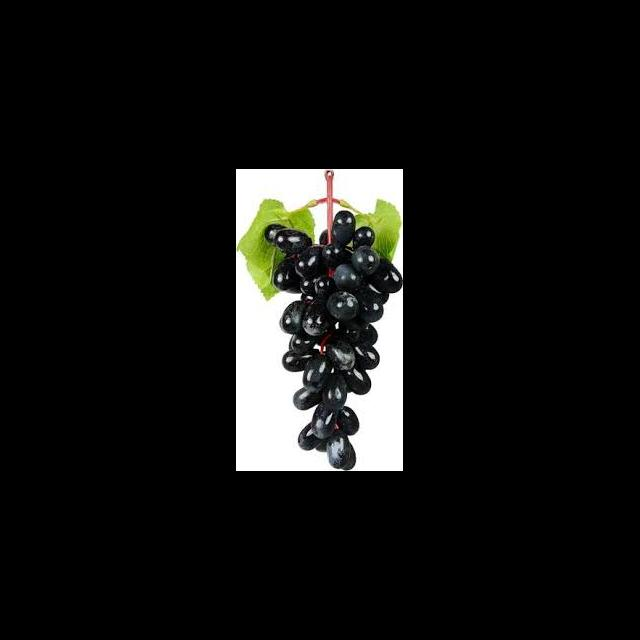grape: (264, 209, 402, 469)
